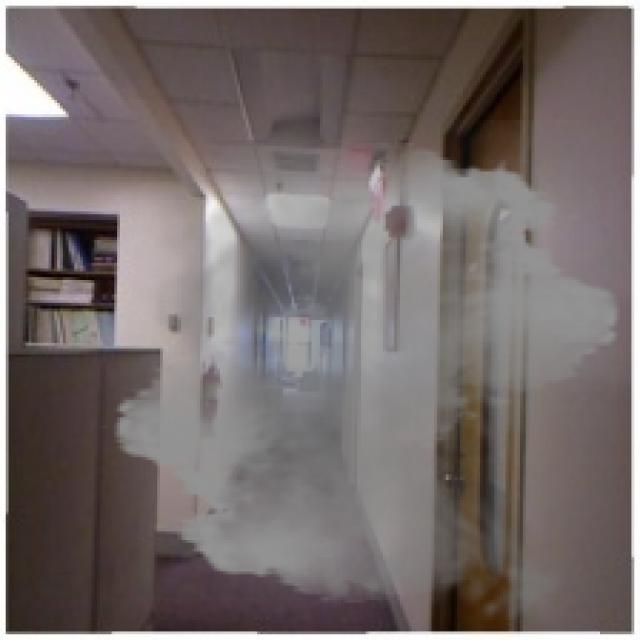smoke: (97, 120, 637, 637)
